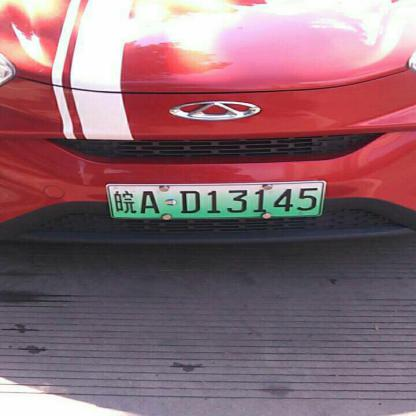lp: (104, 182, 324, 217)
